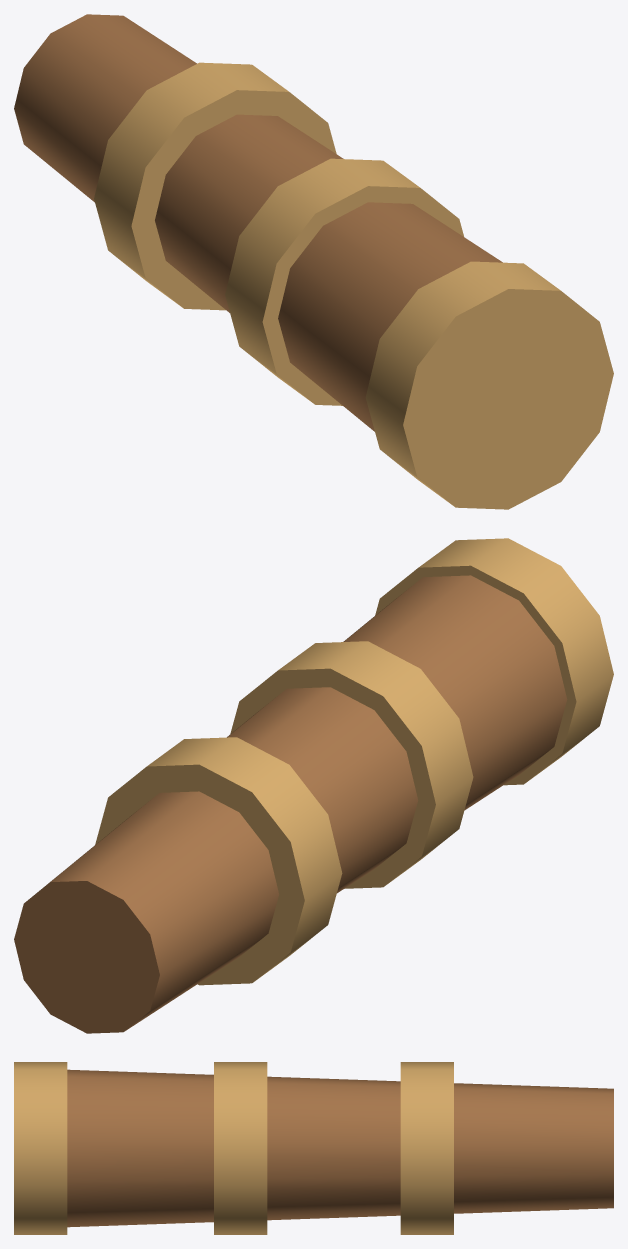
File: prosthetics.glb
The picture shows the model from 3 angles, top to bottom: view 1: azimuth 30°, elevation 25°; view 2: azimuth 150°, elevation 25°; view 3: azimuth 270°, elevation 25°; orthographic projection. The views are drawn at different scales.
Visible parts, largest first — view 1: prop_prosthetics; view 2: prop_prosthetics; view 3: prop_prosthetics.
Boxes of the visible parts, bbox=[...] form: prop_prosthetics: bbox=[14, 14, 613, 509]; prop_prosthetics: bbox=[14, 538, 613, 1033]; prop_prosthetics: bbox=[14, 1062, 613, 1234].
Bounding box in the file's own units: 0.026 × 0.026 × 0.09.
